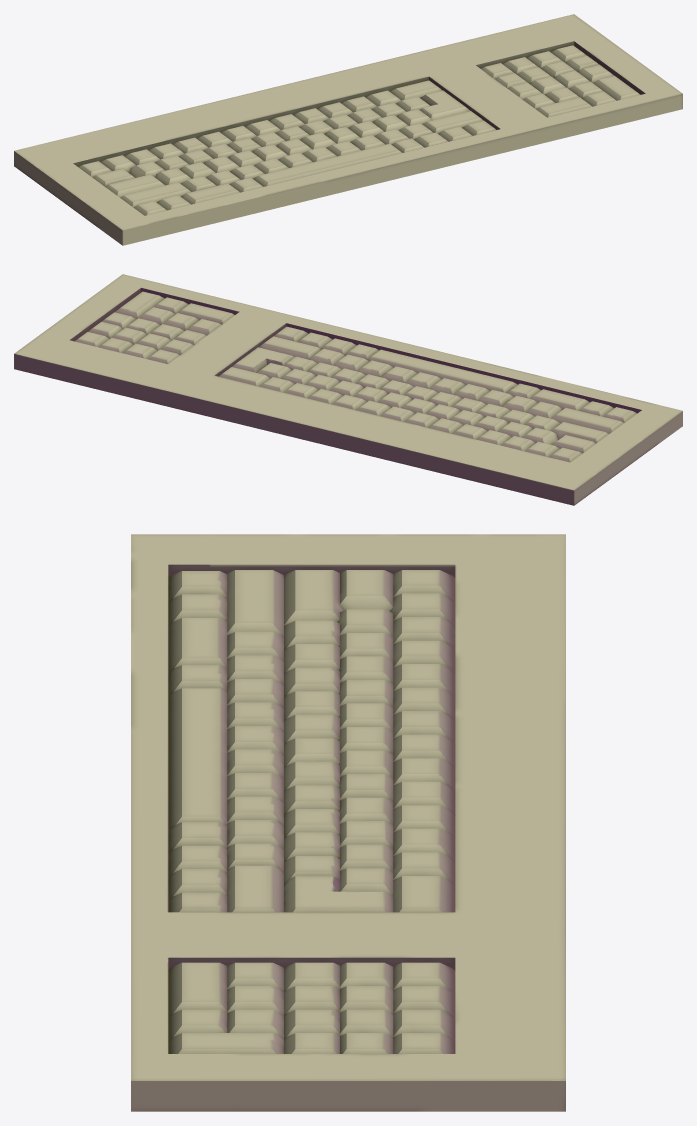
The model's file is Keyboard.fbx.
3 renders of one model, top to bottom at view 1: azimuth 30°, elevation 25°; view 2: azimuth 150°, elevation 25°; view 3: azimuth 270°, elevation 25°, orthographic. The views are drawn at different scales.
Parts seen in each view (by area): view 1: Keyboard; view 2: Keyboard; view 3: Keyboard.
Part boxes in pixels (<box>): Keyboard: <box>14,14,682,245</box>; Keyboard: <box>14,274,682,505</box>; Keyboard: <box>131,534,565,1111</box>.
Bounding box in the file's own units: 39.55 × 1.04 × 13.31.
